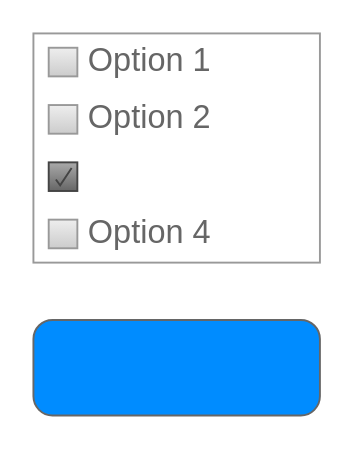
Image size: 353x449. Some labels were removed from this diagram. Each missing label, with the centre of its shape:
"Button Text" goes at [176,366].
"Option 3" goes at [62,175].
